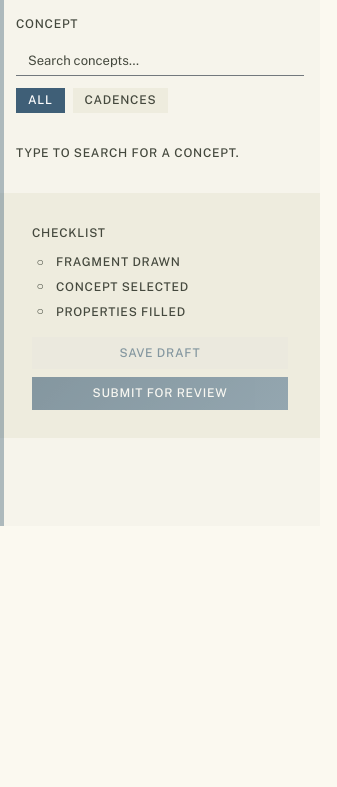
Scenario: FormPanel › shows TypeRefinement when the selected concept has structurally-divergent children
Type "perfect" into the search field with test id "concept-search-input" at (160, 60), box x1=16 y1=45 x2=304 y2=76
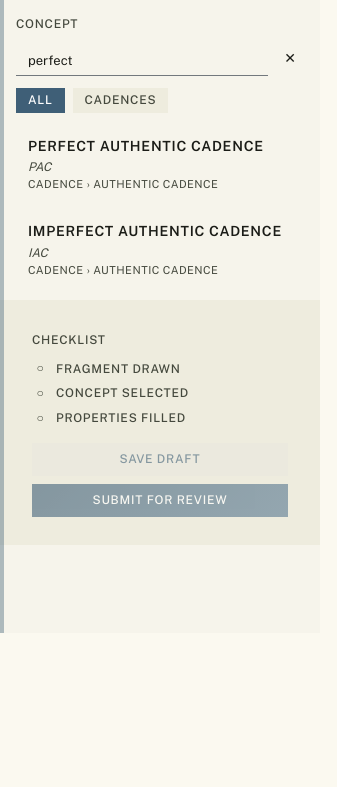
Now the button with test id "concept-card-PerfectAuthenticCadence" is shown
Click the button with test id "concept-card-PerfectAuthenticCadence" at (146, 146), box x1=16 y1=125 x2=304 y2=202
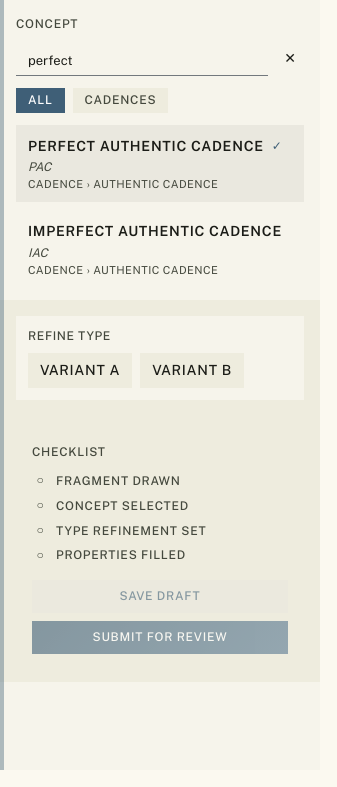
Now the element with test id "type-refinement" is shown, box x1=16 y1=316 x2=304 y2=400
Now the text "Variant A" is shown, box x1=40 y1=361 x2=120 y2=380
Now the text "Variant B" is shown, box x1=152 y1=361 x2=232 y2=380
